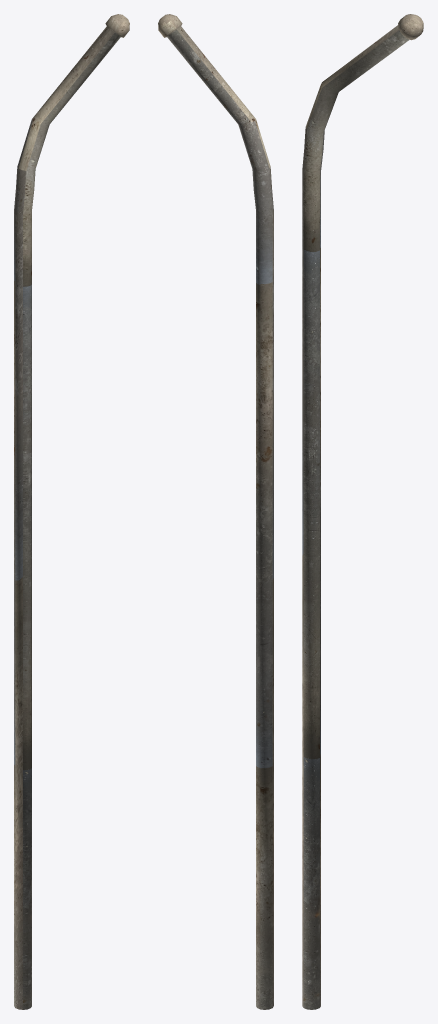
File: Chain_Pole_Curve.fbx
The picture shows the model from 3 angles, left to right: view 1: azimuth 30°, elevation 25°; view 2: azimuth 150°, elevation 25°; view 3: azimuth 330°, elevation 25°; orthographic projection. The views are drawn at different scales.
Parts seen in each view (by area): view 1: Chain_Pole_Curve; view 2: Chain_Pole_Curve; view 3: Chain_Pole_Curve.
Boxes of the visible parts, <box> form: Chain_Pole_Curve: <box>14,14,129,1009</box>; Chain_Pole_Curve: <box>158,14,273,1009</box>; Chain_Pole_Curve: <box>302,14,423,1009</box>.
Size of the model in its own units: 100 by 819 by 18.09.
